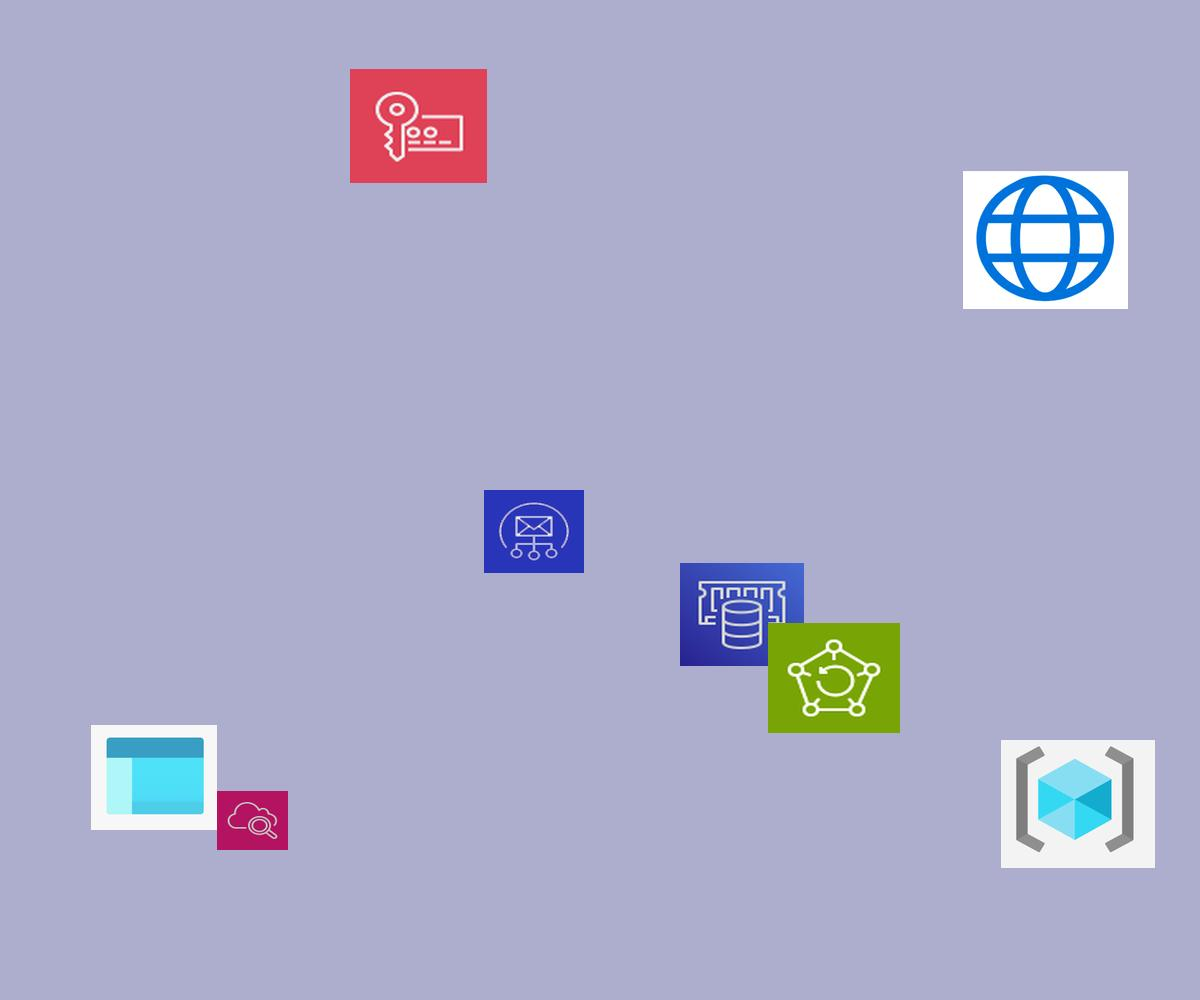AWS-Backup: (768, 623, 900, 733)
AWS-CloudWatch: (217, 791, 288, 850)
AWS-ElastiCache: (680, 563, 804, 666)
AWS-Key-Management-Service: (350, 69, 487, 183)
AWS-Simple-Email-Service: (484, 490, 584, 573)
Azure_http: (963, 171, 1128, 309)
Azure_management-portal: (91, 725, 217, 830)
Azure_resource_group: (1001, 740, 1155, 868)
